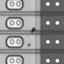dust: (30, 26, 35, 32), (26, 42, 31, 46)
